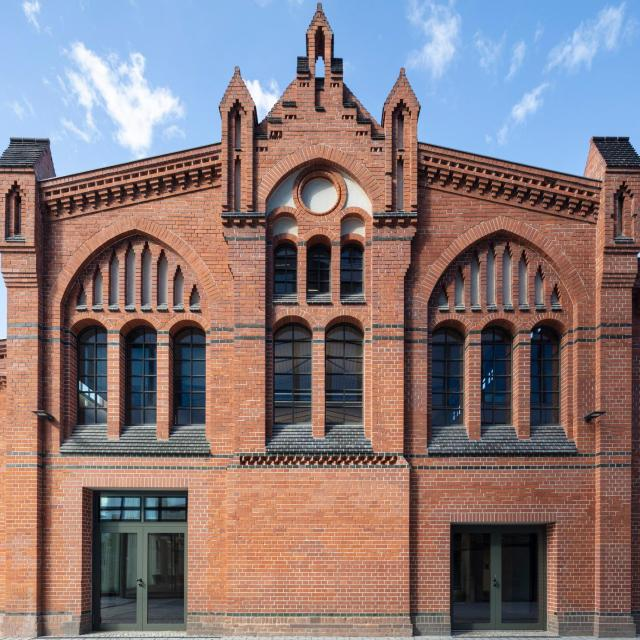door: (90, 521, 188, 634), (452, 522, 549, 634)
wall: (0, 4, 640, 639)
windows: (275, 325, 314, 425), (327, 325, 366, 424), (175, 325, 206, 423), (482, 327, 513, 425), (78, 327, 109, 424), (433, 327, 463, 425), (532, 329, 562, 427), (126, 327, 156, 424), (89, 492, 186, 519), (305, 243, 329, 294), (275, 243, 296, 294), (343, 243, 363, 294)
